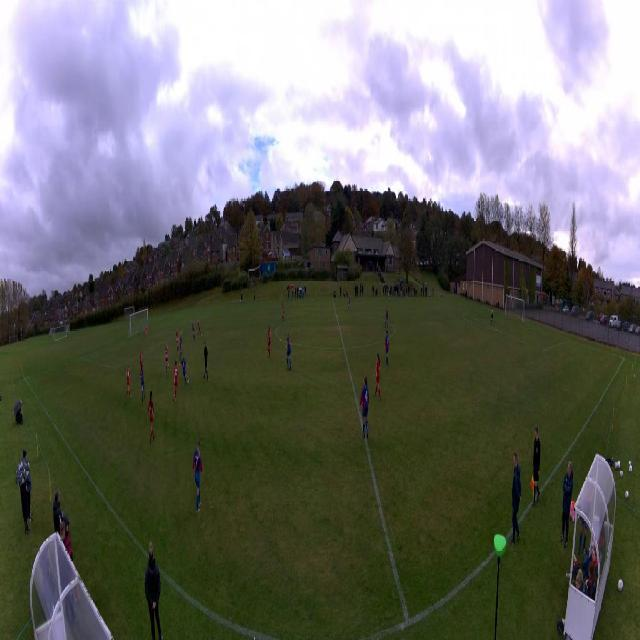ball: (187, 379, 189, 385)
player: (193, 436, 204, 514), (359, 376, 370, 438), (373, 351, 383, 402), (147, 390, 155, 444), (180, 351, 189, 386), (173, 361, 179, 403), (203, 340, 209, 382), (384, 330, 390, 369), (140, 366, 146, 404), (286, 332, 292, 369), (164, 343, 171, 373), (126, 364, 131, 401), (267, 326, 271, 357), (176, 329, 180, 353), (384, 306, 388, 328), (139, 348, 143, 369), (179, 333, 182, 360), (281, 302, 285, 322), (191, 321, 195, 340), (198, 321, 202, 339), (348, 295, 352, 312), (145, 323, 148, 341), (490, 307, 493, 325)
